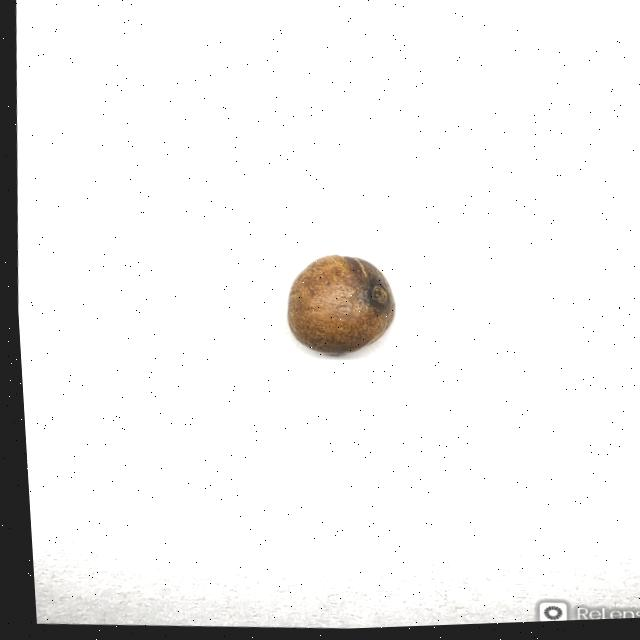Insect damage: (281, 255, 392, 359)
